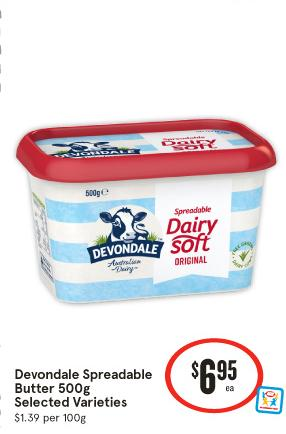description_block: (7, 361, 157, 412)
price_main: (163, 337, 251, 409)
product_image_block: (11, 105, 280, 322)
unit_price_block: (5, 412, 101, 428)
